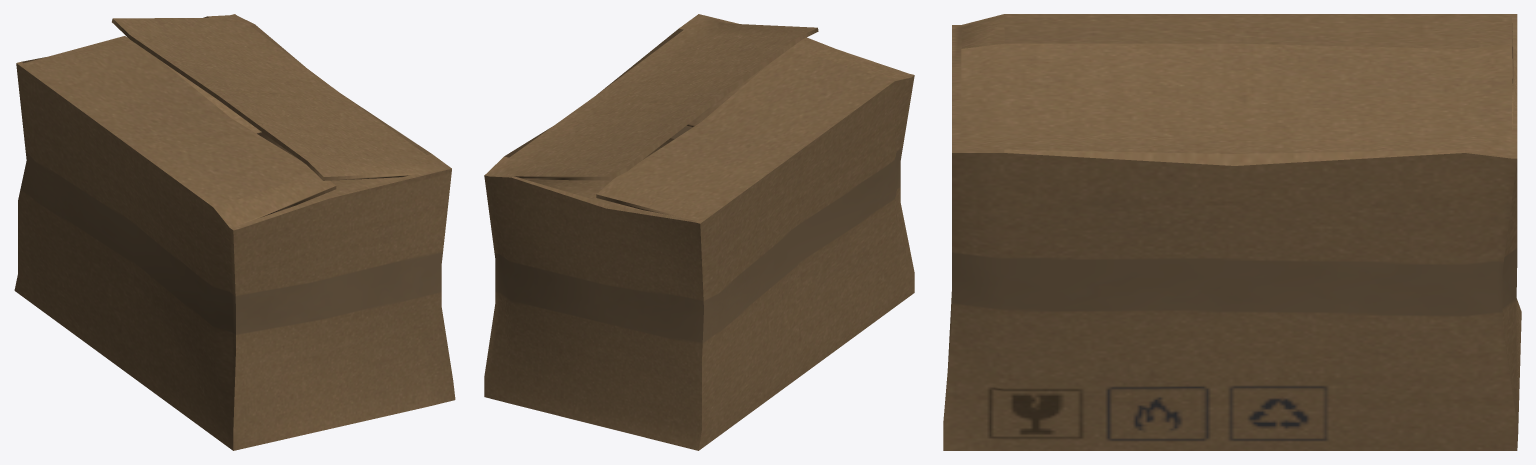
File: Close cardboard box.fbx
The picture shows the model from 3 angles, left to right: view 1: azimuth 30°, elevation 25°; view 2: azimuth 150°, elevation 25°; view 3: azimuth 270°, elevation 25°; orthographic projection. The views are drawn at different scales.
Parts seen in each view (by area): view 1: Cube.001; view 2: Cube.001; view 3: Cube.001.
Part boxes in pixels (<box>): Cube.001: <box>14,14,455,450</box>; Cube.001: <box>484,14,914,450</box>; Cube.001: <box>943,14,1521,450</box>.
Bounding box in the file's own units: 60.56 × 66.72 × 107.
Materials: 1 (1 with a texture image).
